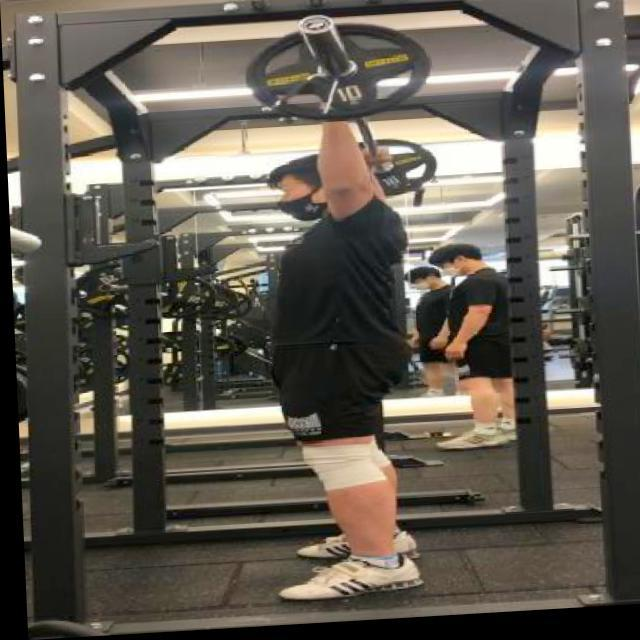barbell: (241, 9, 434, 133)
